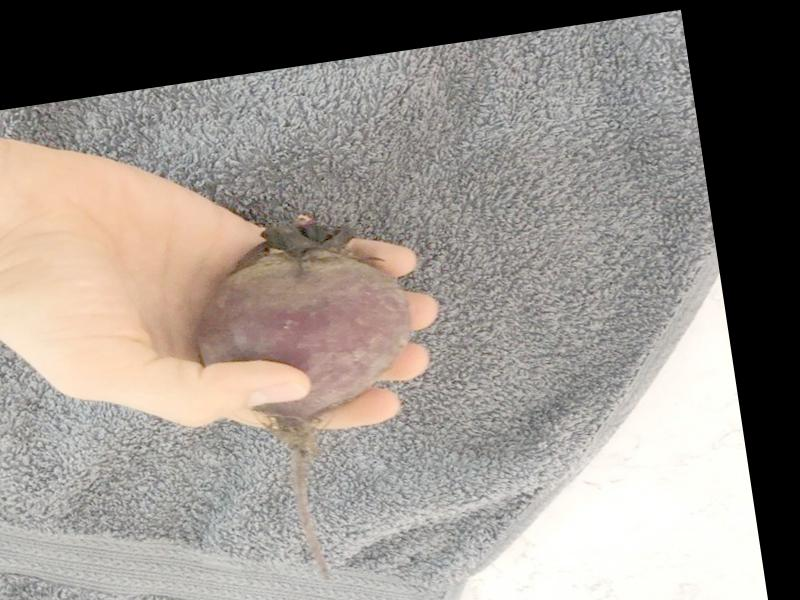Beet: (181, 209, 449, 592)
